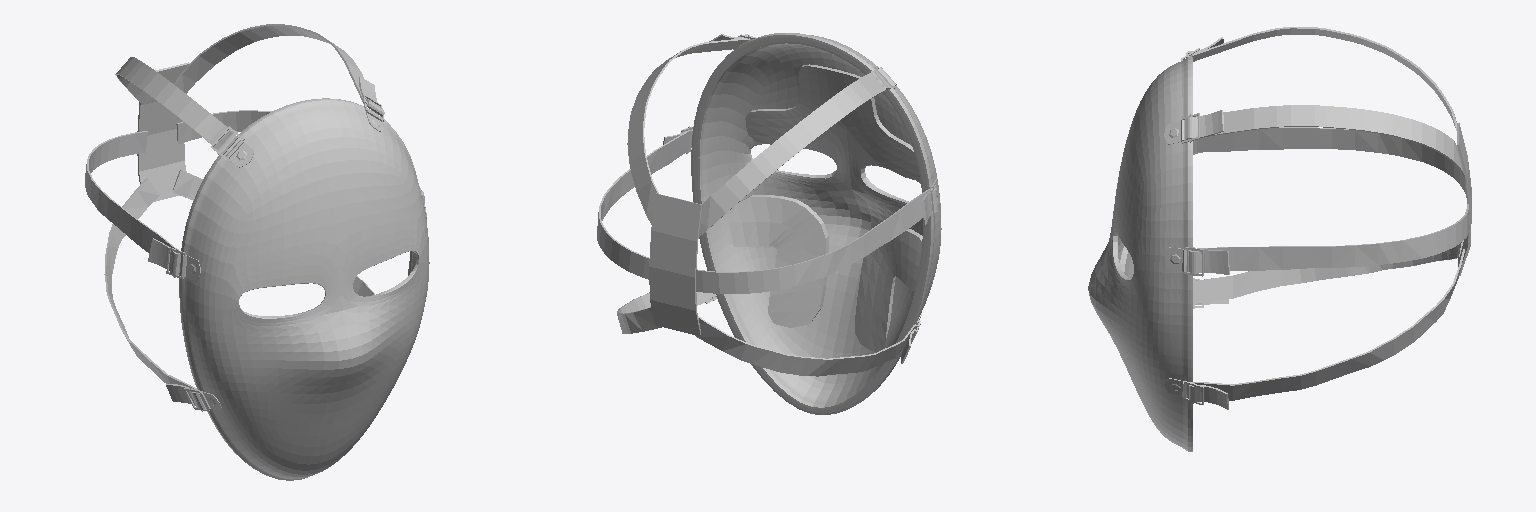
Rendered from mask.obj.
3 renders of one model, left to right at view 1: azimuth 30°, elevation 25°; view 2: azimuth 150°, elevation 25°; view 3: azimuth 270°, elevation 25°, orthographic.
Visible parts, largest first — view 1: Mask_Cube.007; view 2: Mask_Cube.007; view 3: Mask_Cube.007.
Part boxes in pixels (x1,y1,x2,y2): Mask_Cube.007: (85,24,429,480); Mask_Cube.007: (597,33,941,414); Mask_Cube.007: (1088,27,1471,451).
Bounding box in the file's own units: 0.179 × 0.2434 × 0.2228.